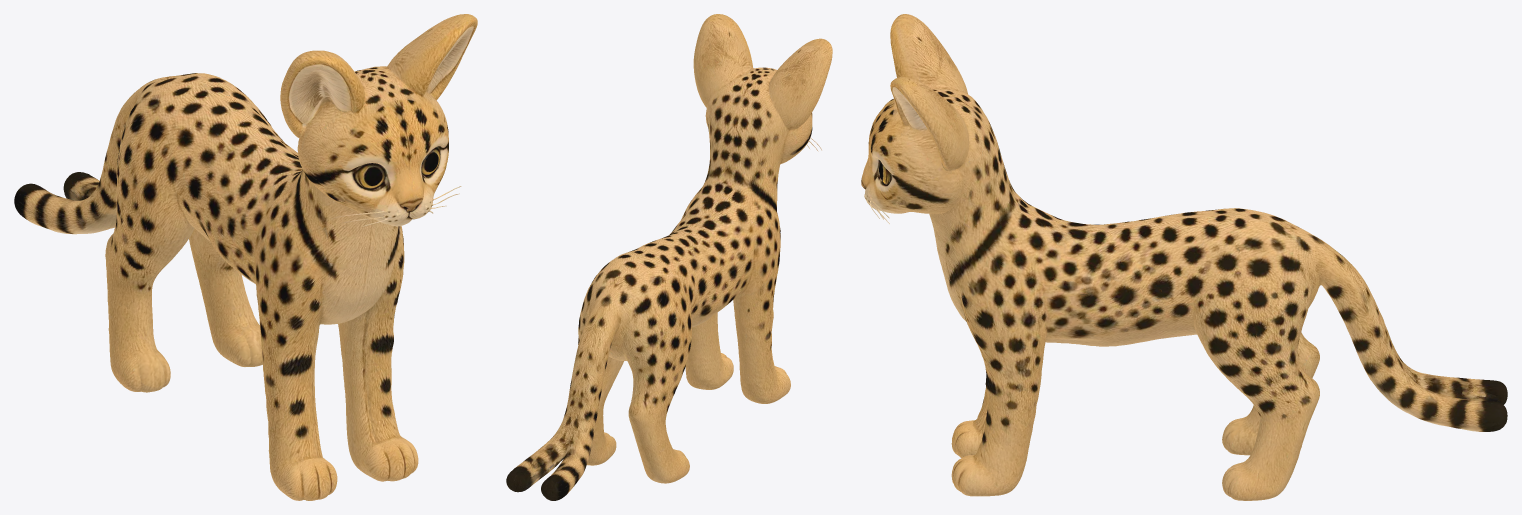
Rendered from meshy-savannah.glb.
3 renders of one model, left to right at view 1: azimuth 30°, elevation 25°; view 2: azimuth 150°, elevation 25°; view 3: azimuth 270°, elevation 25°, orthographic. The views are drawn at different scales.
Parts seen in each view (by area): view 1: Mesh_0; view 2: Mesh_0; view 3: Mesh_0.
Part boxes in pixels (bbox=[...]): Mesh_0: bbox=[14, 14, 477, 500]; Mesh_0: bbox=[506, 14, 832, 500]; Mesh_0: bbox=[861, 14, 1507, 500].
Bounding box in the file's own units: 0.5559 × 1.37 × 1.9.
Materials: 1 (1 with a texture image).
